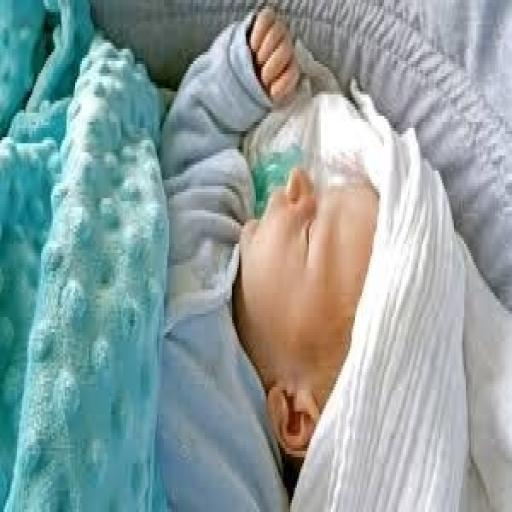sleeping: (157, 3, 509, 509)
